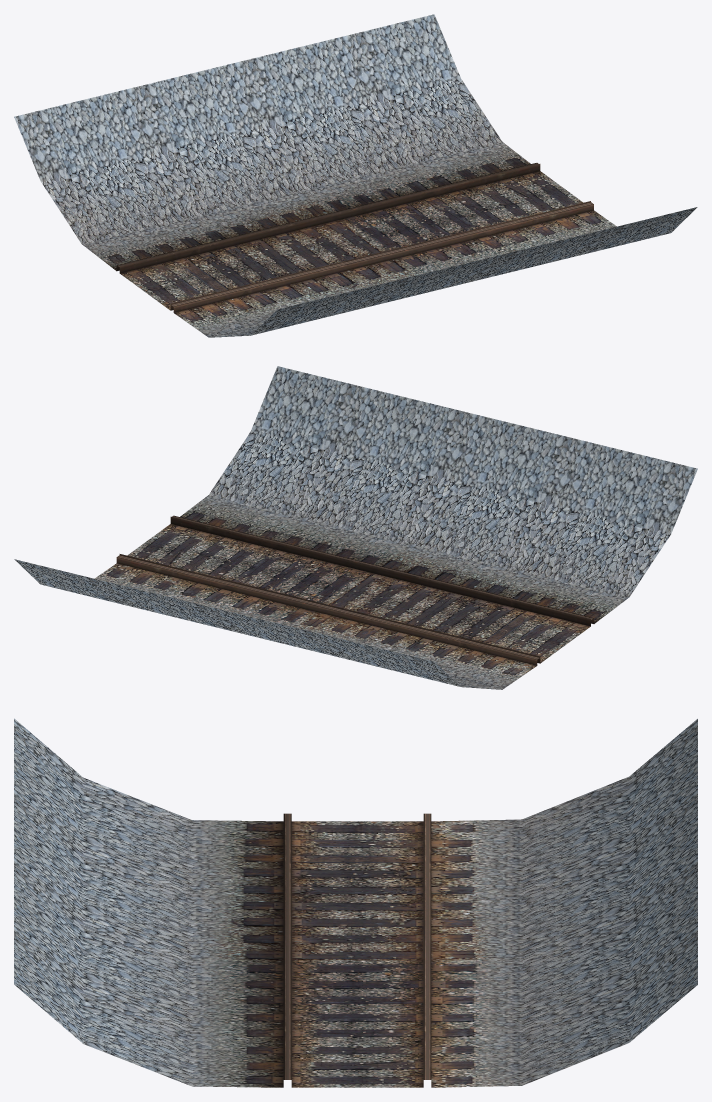
Rendered from railway_5.fbx.
The picture shows the model from 3 angles, top to bottom: view 1: azimuth 30°, elevation 25°; view 2: azimuth 150°, elevation 25°; view 3: azimuth 270°, elevation 25°; orthographic projection. The views are drawn at different scales.
Parts seen in each view (by area): view 1: Plane.004; view 2: Plane.004; view 3: Plane.004.
Part boxes in pixels (left/top/right/bottom): Plane.004: left=14, top=14, right=697, bottom=337; Plane.004: left=14, top=366, right=697, bottom=689; Plane.004: left=14, top=718, right=697, bottom=1087.
Size of the model in its own units: 375 by 67.85 by 407.
1 material, 1 textured.
